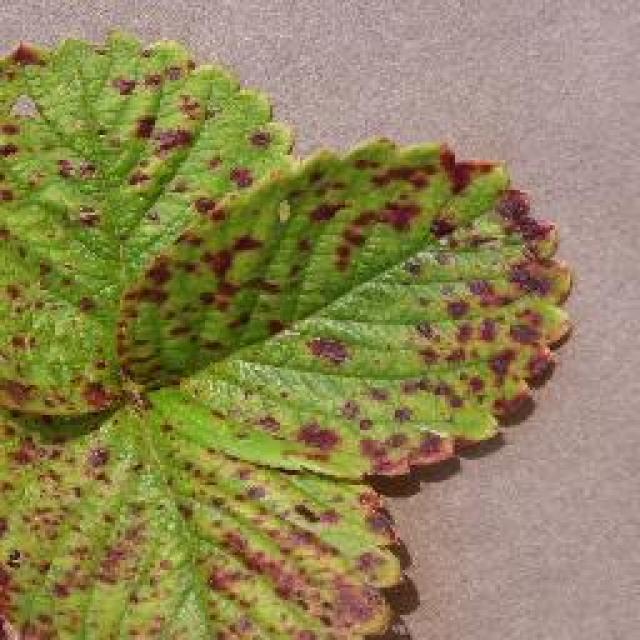Strawberry___Leaf_scorch: (25, 110, 562, 620)
